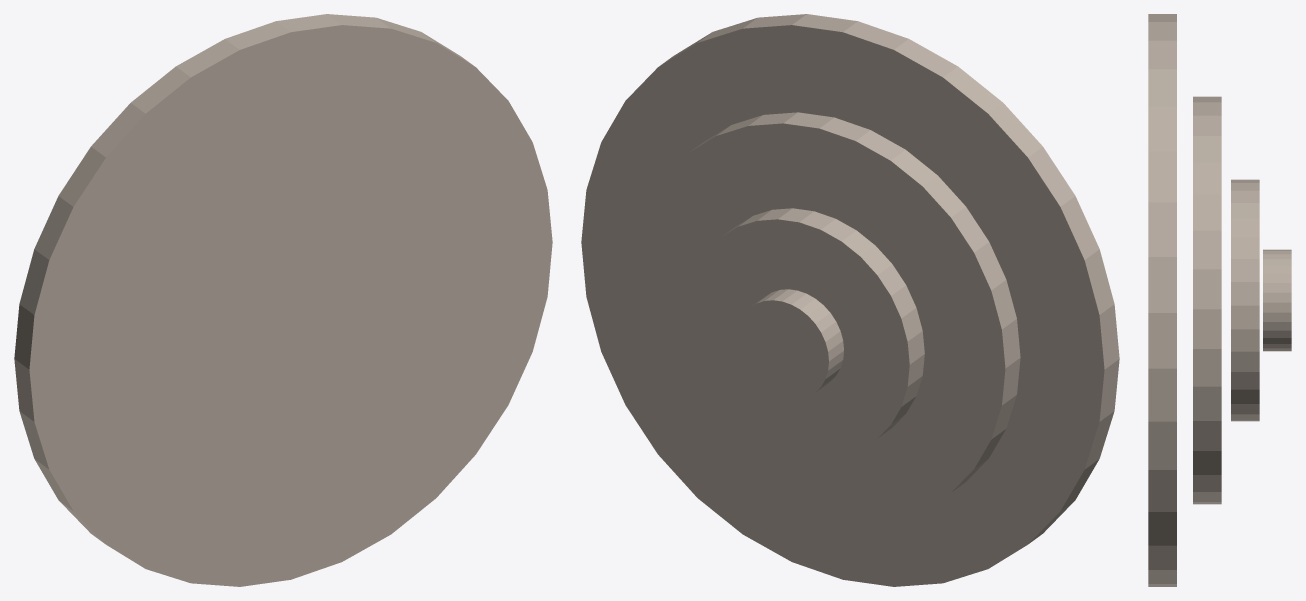
File: impact-crater.glb
The picture shows the model from 3 angles, left to right: view 1: azimuth 30°, elevation 25°; view 2: azimuth 150°, elevation 25°; view 3: azimuth 270°, elevation 25°; orthographic projection. The views are drawn at different scales.
Visible parts, largest first — view 1: geometry_0; view 2: geometry_0; view 3: geometry_0.
Boxes of the visible parts, x1=… form: geometry_0: x1=14, y1=14, x2=552, y2=586; geometry_0: x1=581, y1=14, x2=1119, y2=586; geometry_0: x1=1148, y1=14, x2=1291, y2=586.
Bounding box in the file's own units: 9 × 9 × 2.25.
Materials: 1 (1 with a texture image).
